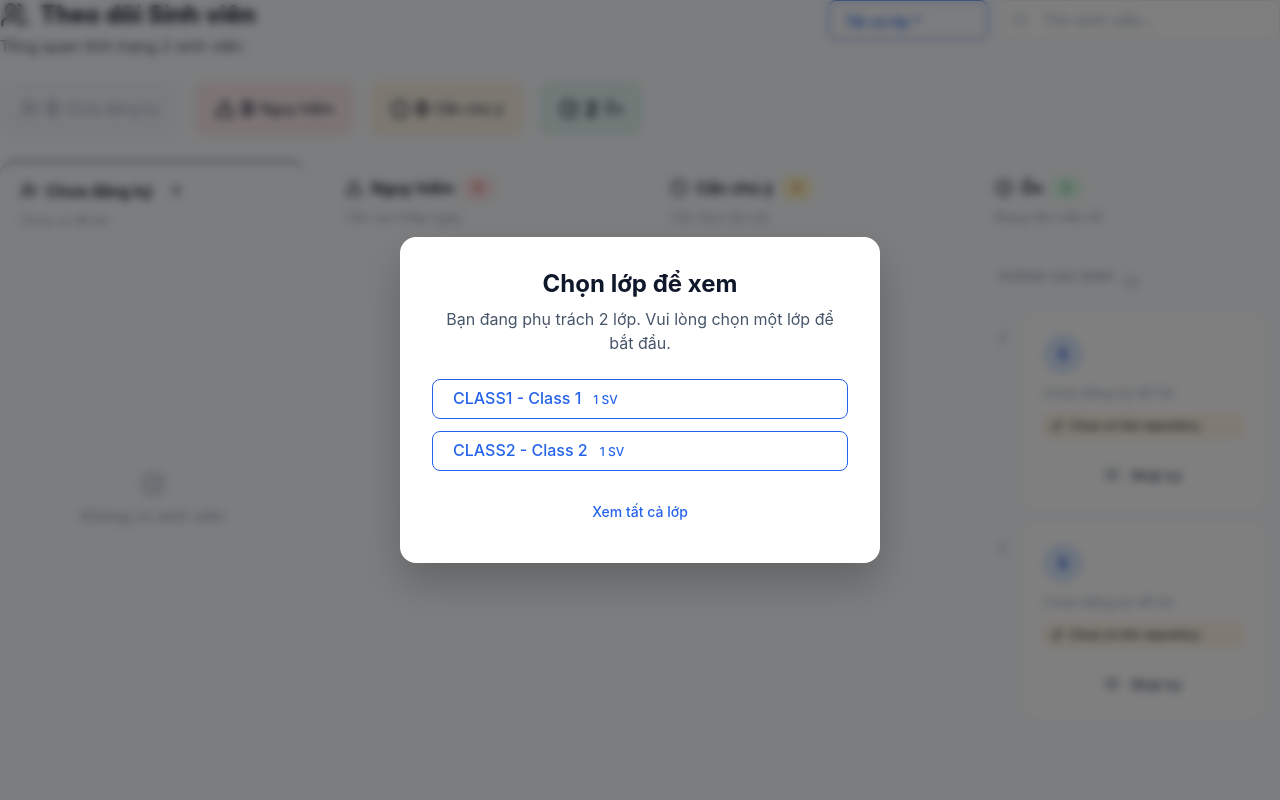
Test case: MenteesKanbanPage Class Selection › sets selectedClass to "all" when "Xem tất cả lớp" clicked
Note: Click "Xem tất cả lớp"
Click the button "Xem tất cả lớp". click: (640, 511)
box: x1=432 y1=491 x2=848 y2=531
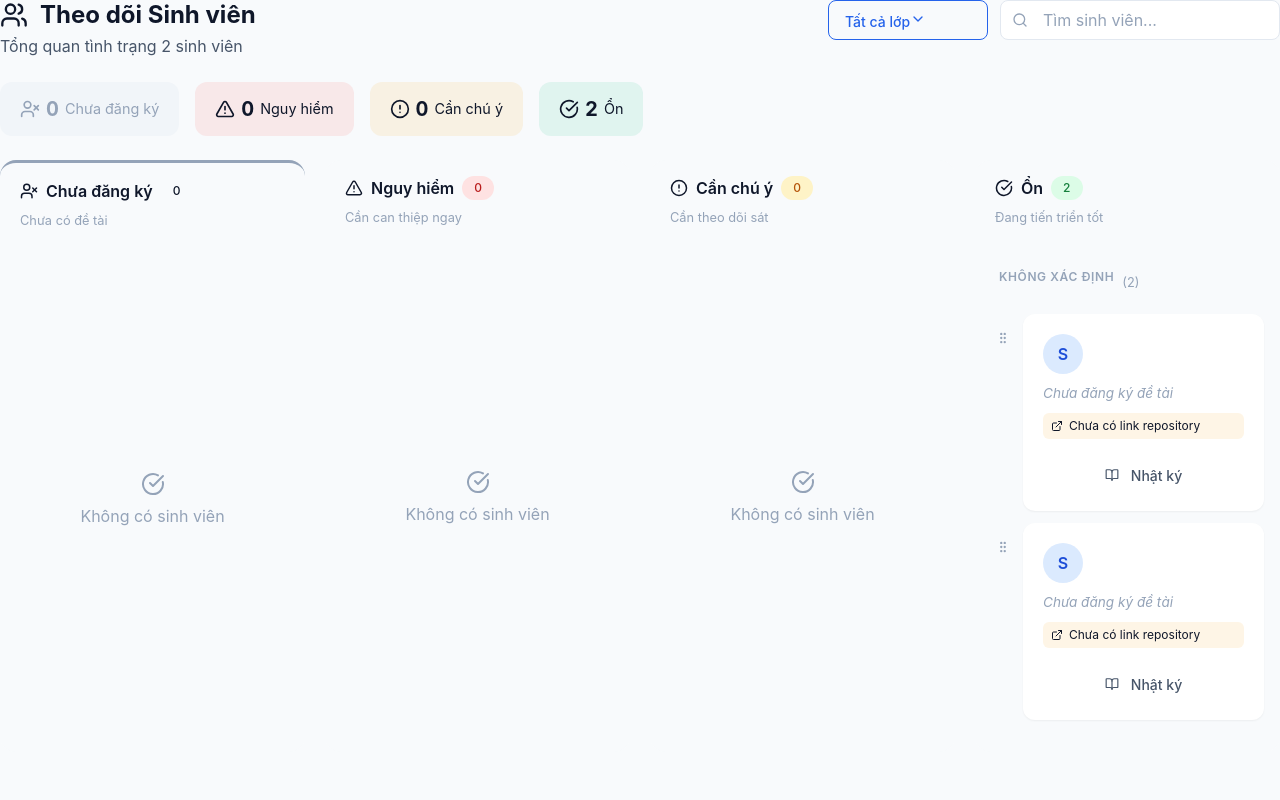
Expected: the heading "Chọn lớp để xem" is gone
